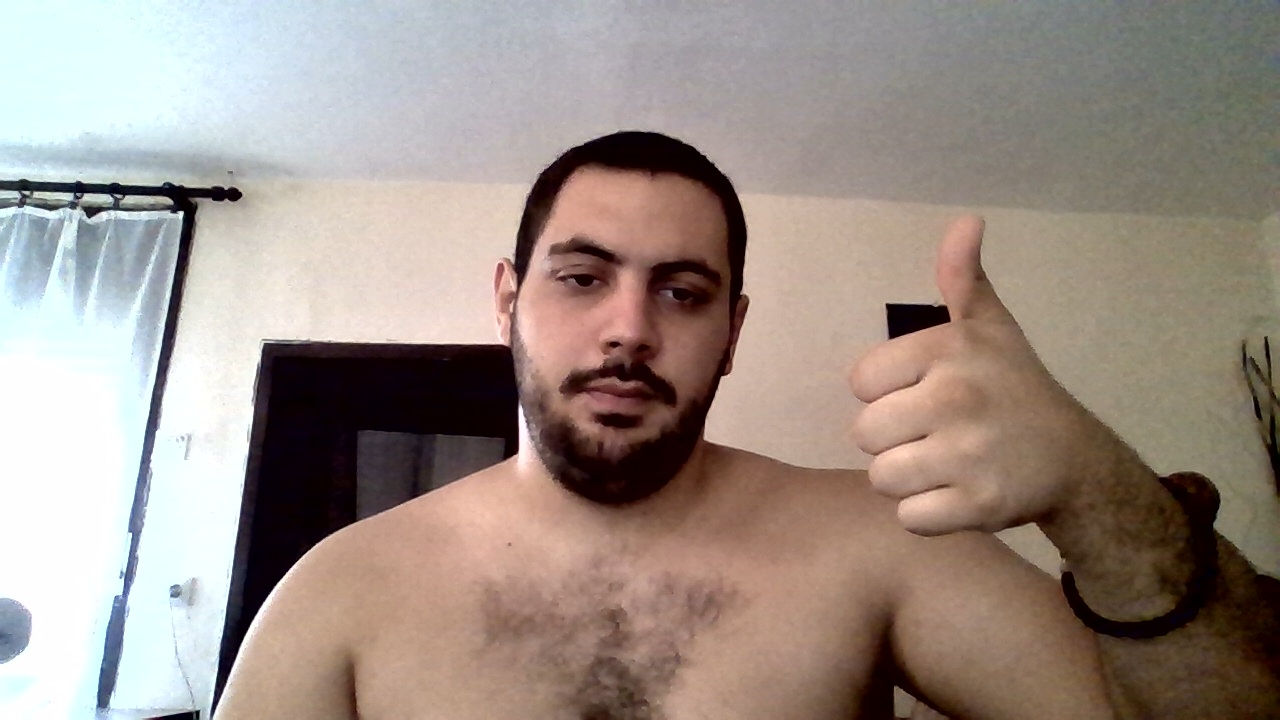like: (839, 216, 1030, 540)
